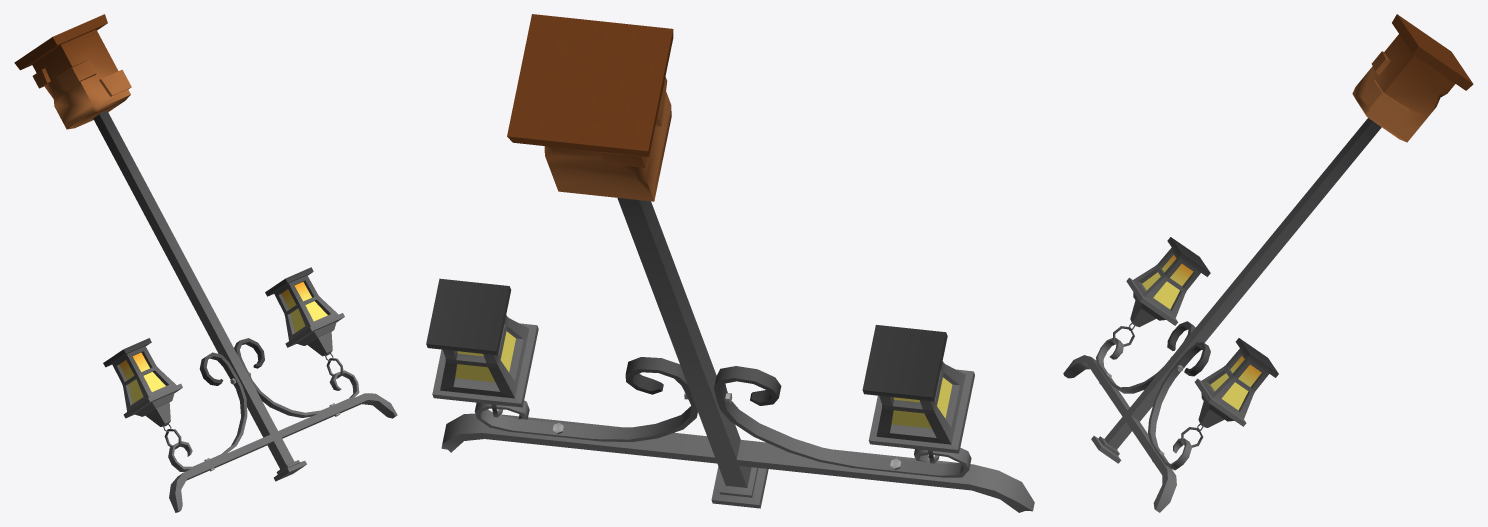
3 renders of one model, left to right at view 1: azimuth 30°, elevation 25°; view 2: azimuth 150°, elevation 25°; view 3: azimuth 270°, elevation 25°, orthographic. The views are drawn at different scales.
Visible parts, largest first — view 1: lightPost3; view 2: lightPost3; view 3: lightPost3.
Part boxes in pixels (x1,y1,x2,y2): lightPost3: (14, 14, 397, 512); lightPost3: (426, 14, 1034, 512); lightPost3: (1063, 14, 1473, 512).
Bounding box in the file's own units: 7.23 × 9.28 × 8.8.
1 material, 1 textured.
